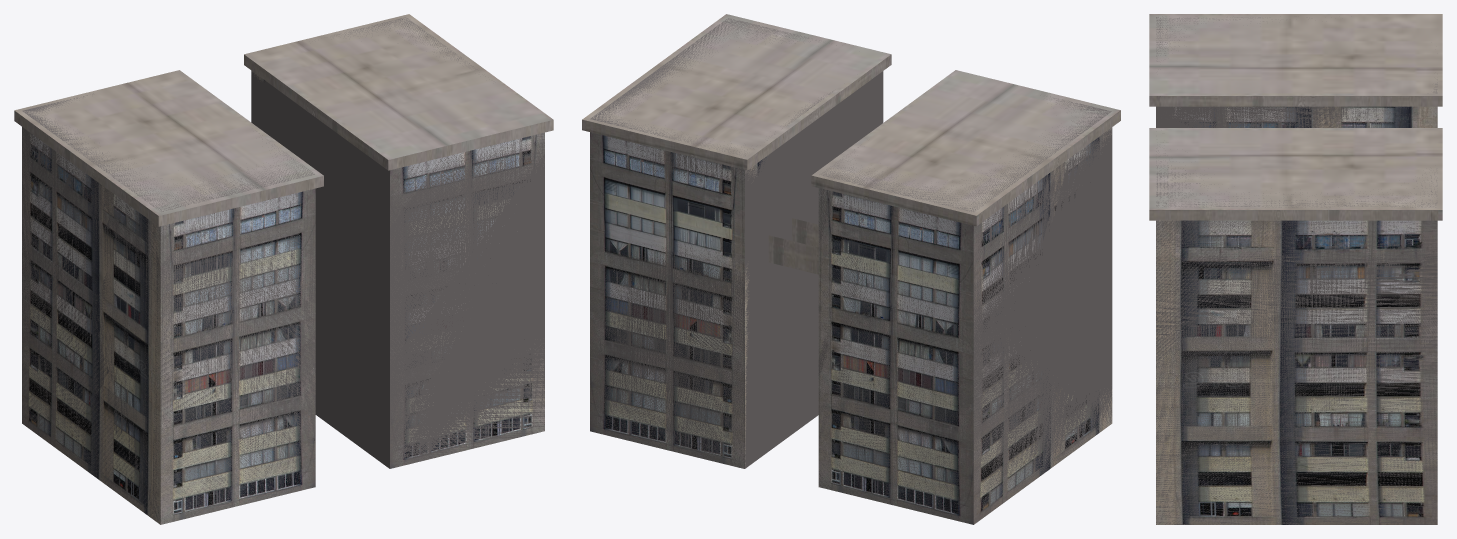
The model's file is building3.fbx.
3 views of the same model, side by side, from view 1: azimuth 30°, elevation 25°; view 2: azimuth 150°, elevation 25°; view 3: azimuth 270°, elevation 25° (orthographic).
Parts seen in each view (by area): view 1: Cube, Cube.011; view 2: Cube, Cube.011; view 3: Cube, Cube.011.
Part boxes in pixels (x1,y1,x2,y2): Cube: [14, 14, 553, 524]; Cube.011: [22, 17, 544, 524]; Cube: [582, 14, 1120, 524]; Cube.011: [590, 18, 1112, 523]; Cube: [1149, 14, 1442, 524]; Cube.011: [1156, 16, 1437, 524].
Bounding box in the file's own units: 3484 × 2635 × 2207.
